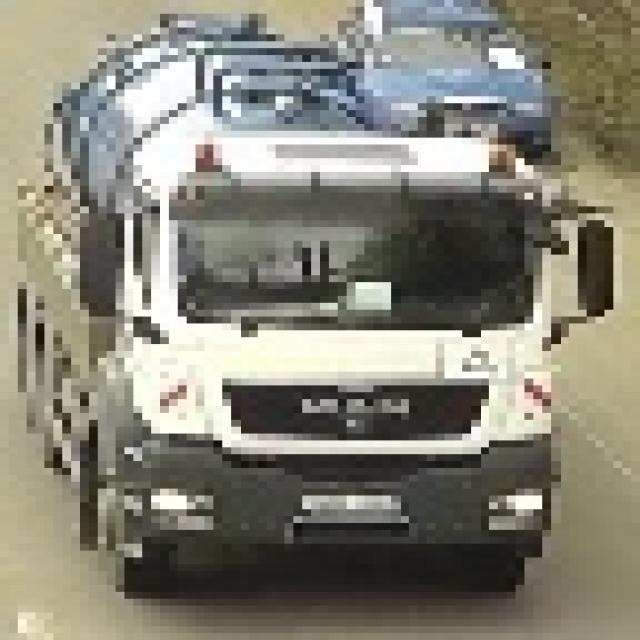truck: (0, 0, 613, 598)
